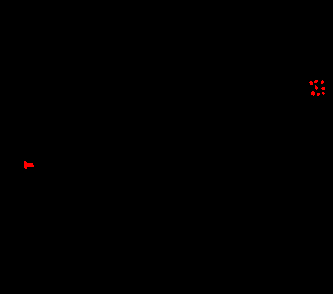Target: (24, 161, 34, 169), (311, 91, 315, 96), (309, 81, 313, 85), (315, 85, 318, 90), (314, 80, 318, 83), (321, 80, 324, 84), (321, 87, 325, 90), (322, 92, 325, 95), (317, 93, 320, 96)
